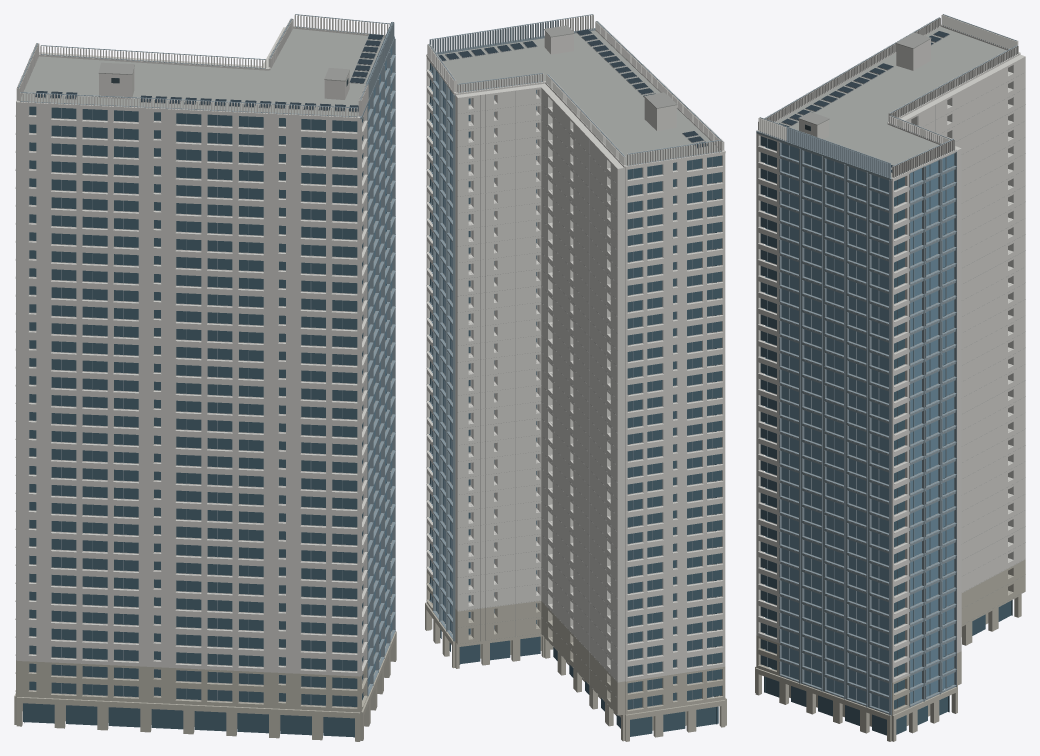
The model's file is bespoke-maple-xi-109.glb.
The picture shows the model from 3 angles, left to right: view 1: azimuth 30°, elevation 25°; view 2: azimuth 150°, elevation 25°; view 3: azimuth 270°, elevation 25°; orthographic projection. The views are drawn at different scales.
Visible parts, largest first — view 1: Maple109_numbered_plan_inset_body, Maple109_e0_end_glass, Maple109_e0_end_unequal_sash, Maple109_numbered_plan_roof, Maple109_recessed_stone_lobby, Maple109_e3_dark_glass, Maple109_PV_cells, Maple109_e1_cladding_joint; view 2: Maple109_numbered_plan_inset_body, Maple109_e0_end_glass, Maple109_e0_end_unequal_sash, Maple109_recessed_stone_lobby, Maple109_numbered_plan_roof, Maple109_e1_cladding_joint, Maple109_e3_dark_glass, Maple109_PV_cells, Maple109_PV_frame; view 3: Maple109_numbered_plan_inset_body, Maple109_e3_dark_glass, Maple109_e0_end_unequal_sash, Maple109_e0_end_glass, Maple109_numbered_plan_roof, Maple109_recessed_stone_lobby, Maple109_e1_cladding_joint, Maple109_PV_cells.
Boxes of the visible parts, x1=… form: Maple109_numbered_plan_inset_body: x1=15, y1=14, x2=392, y2=707; Maple109_e0_end_glass: x1=23, y1=59, x2=390, y2=737; Maple109_e0_end_unequal_sash: x1=18, y1=14, x2=395, y2=706; Maple109_numbered_plan_roof: x1=19, y1=28, x2=384, y2=116; Maple109_recessed_stone_lobby: x1=14, y1=595, x2=396, y2=741; Maple109_e3_dark_glass: x1=368, y1=46, x2=392, y2=686; Maple109_PV_cells: x1=35, y1=34, x2=383, y2=111; Maple109_e1_cladding_joint: x1=98, y1=62, x2=367, y2=552; Maple109_numbered_plan_inset_body: x1=426, y1=14, x2=725, y2=709; Maple109_e0_end_glass: x1=430, y1=63, x2=721, y2=736; Maple109_e0_end_unequal_sash: x1=428, y1=14, x2=722, y2=708; Maple109_recessed_stone_lobby: x1=425, y1=570, x2=726, y2=741; Maple109_numbered_plan_roof: x1=438, y1=30, x2=720, y2=165; Maple109_e1_cladding_joint: x1=458, y1=25, x2=677, y2=714; Maple109_e3_dark_glass: x1=429, y1=69, x2=452, y2=633; Maple109_PV_cells: x1=438, y1=29, x2=707, y2=147; Maple109_PV_frame: x1=442, y1=29, x2=709, y2=148; Maple109_numbered_plan_inset_body: x1=756, y1=14, x2=1025, y2=695; Maple109_e3_dark_glass: x1=781, y1=143, x2=954, y2=711; Maple109_e0_end_unequal_sash: x1=756, y1=14, x2=1017, y2=715; Maple109_e0_end_glass: x1=760, y1=136, x2=1012, y2=735; Maple109_numbered_plan_roof: x1=776, y1=27, x2=1006, y2=177; Maple109_recessed_stone_lobby: x1=755, y1=559, x2=1025, y2=741; Maple109_e1_cladding_joint: x1=780, y1=32, x2=1025, y2=713; Maple109_PV_cells: x1=779, y1=31, x2=949, y2=172.
Bounding box in the file's own units: 61.67 × 108 × 45.36.
